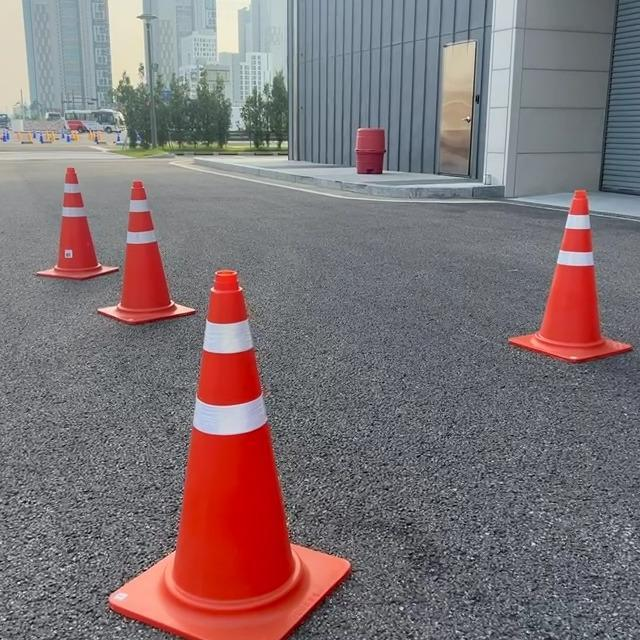fallen_object: (55, 216, 349, 640), (487, 159, 640, 407), (85, 163, 214, 341), (43, 156, 132, 330)
